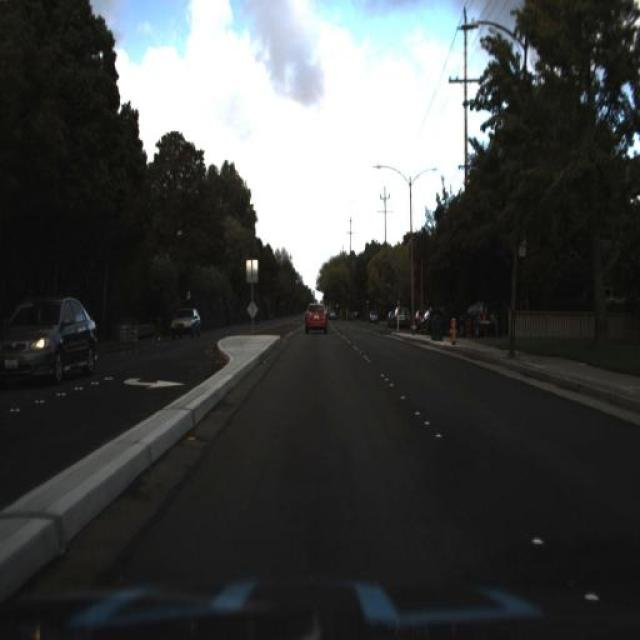car: (0, 293, 101, 391), (412, 293, 453, 341), (162, 299, 206, 342), (457, 301, 502, 337), (170, 304, 201, 340), (303, 298, 328, 338), (390, 299, 416, 335)
